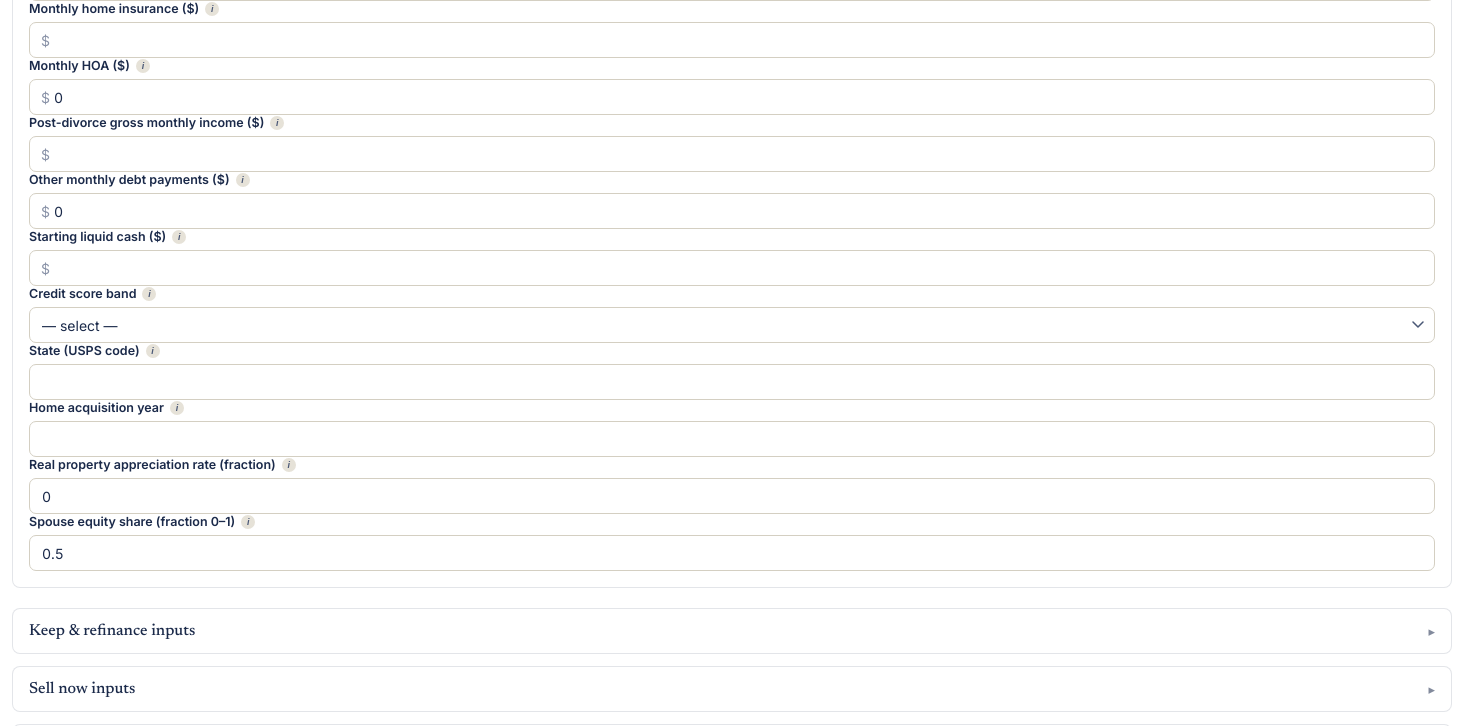
Test: HomeDecisionInputs › accordions toggle independently and can collapse again
(page scrolled)
Click the button with test id "hda-scenario-sellNow-toggle". click: [82, 689]
box: top-left (13, 667), bottom-right (1451, 711)
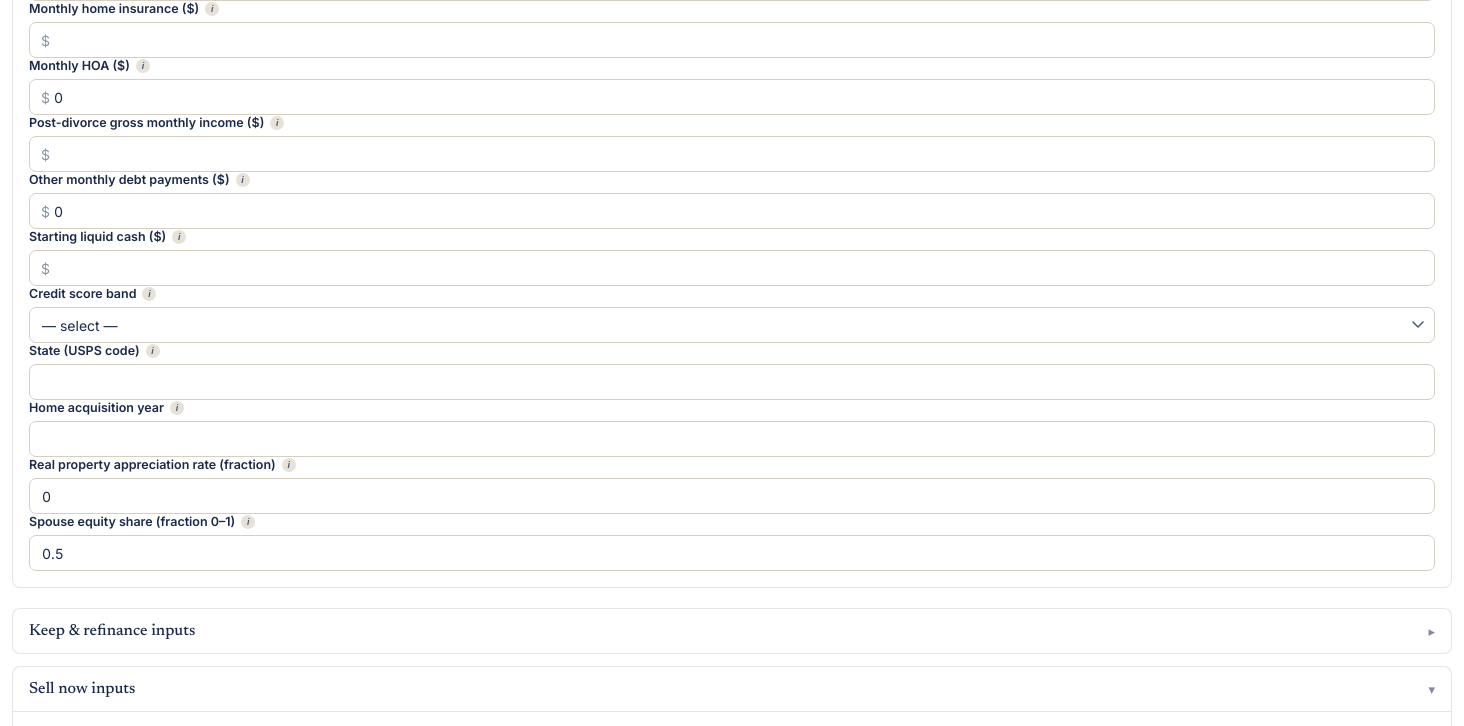
Click the button with test id "hda-scenario-sellNow-toggle". click: [82, 689]
box: top-left (13, 667), bottom-right (1451, 711)
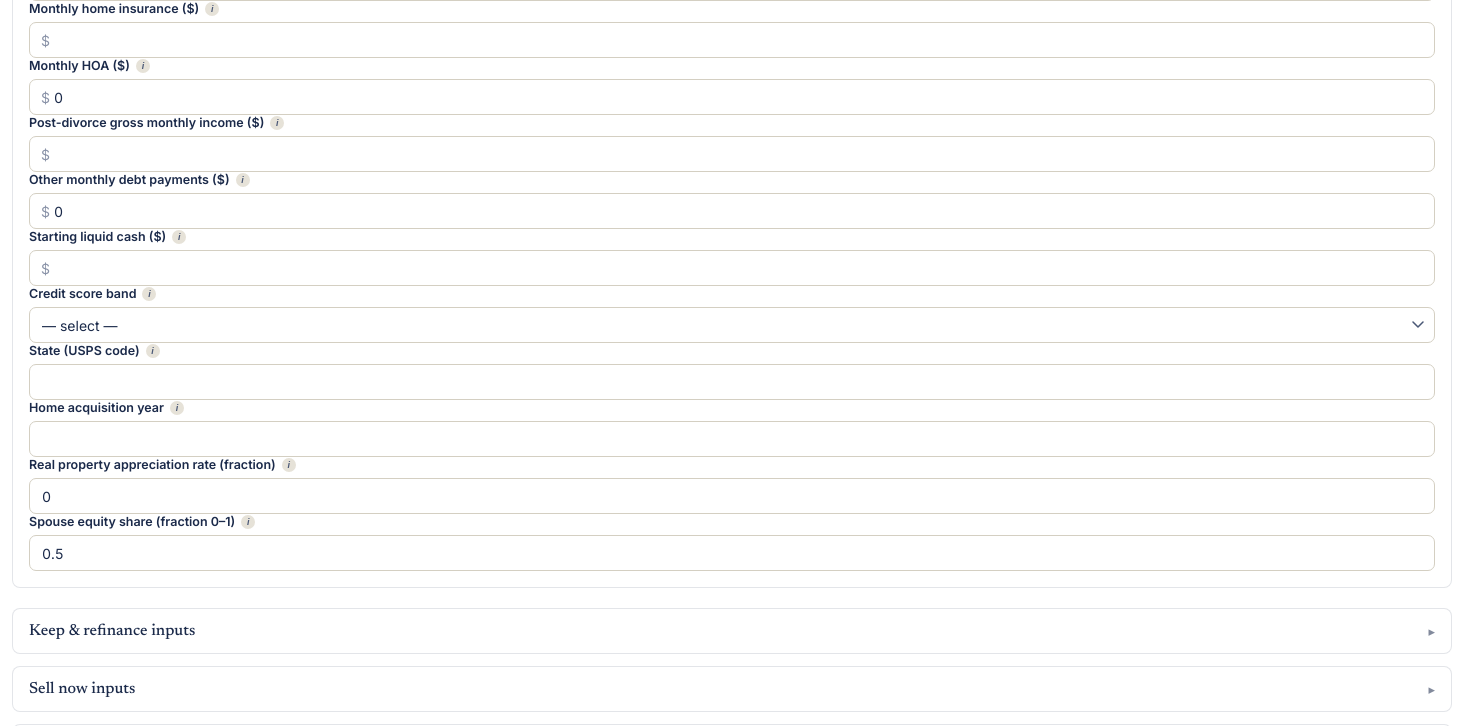
Check: the button with test id "hda-scenario-sellNow-toggle" is collapsed, box top-left (13, 667), bottom-right (1451, 711)
